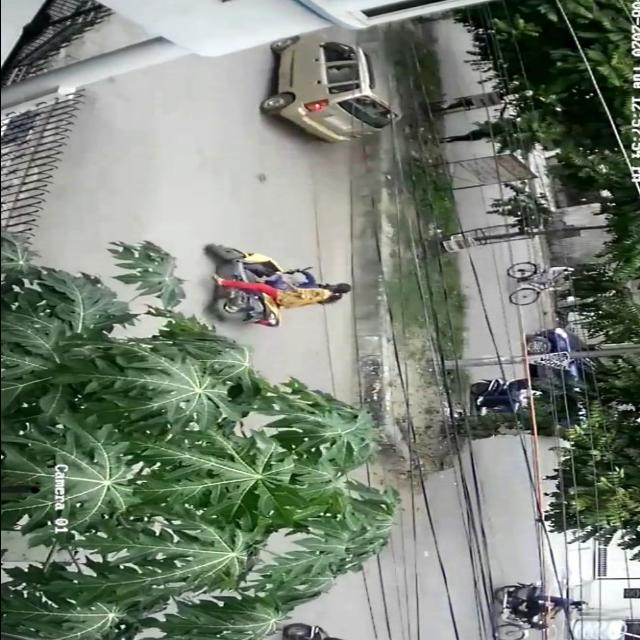accident: (200, 232, 360, 336)
